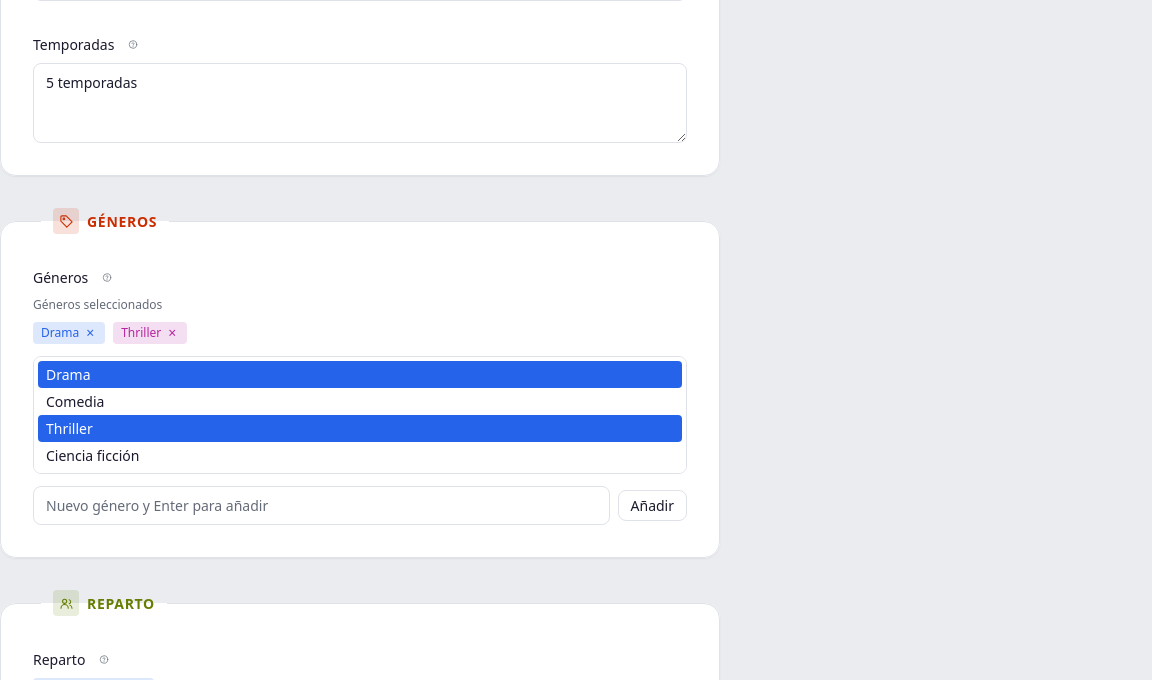
it: SeriesForm › permite a un admin eliminar un género del catálogo, actualizando dropdown y selección
(page scrolled)
Click the button named "quitar Drama": coordinates (90, 333) left=83, top=326, right=97, bottom=340
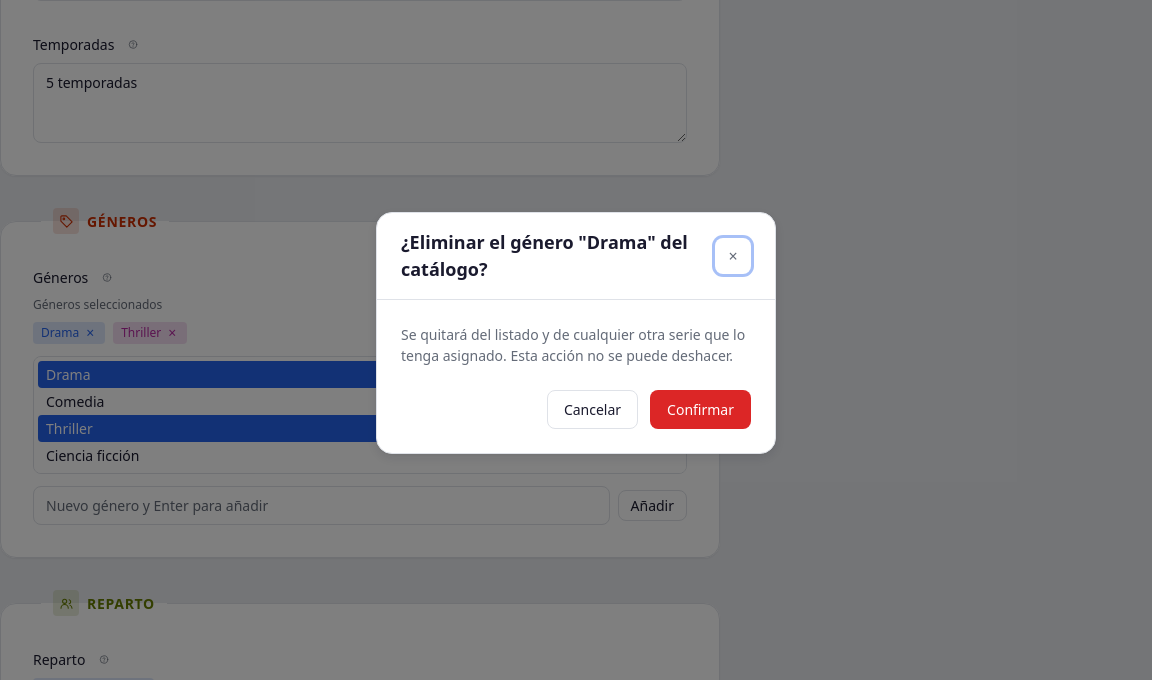
Result: the heading "¿Eliminar el género \"Drama\" del catálogo?" is shown at left=401, top=229, right=715, bottom=283
Click the button "Confirmar": coordinates (701, 410) left=650, top=390, right=751, bottom=429
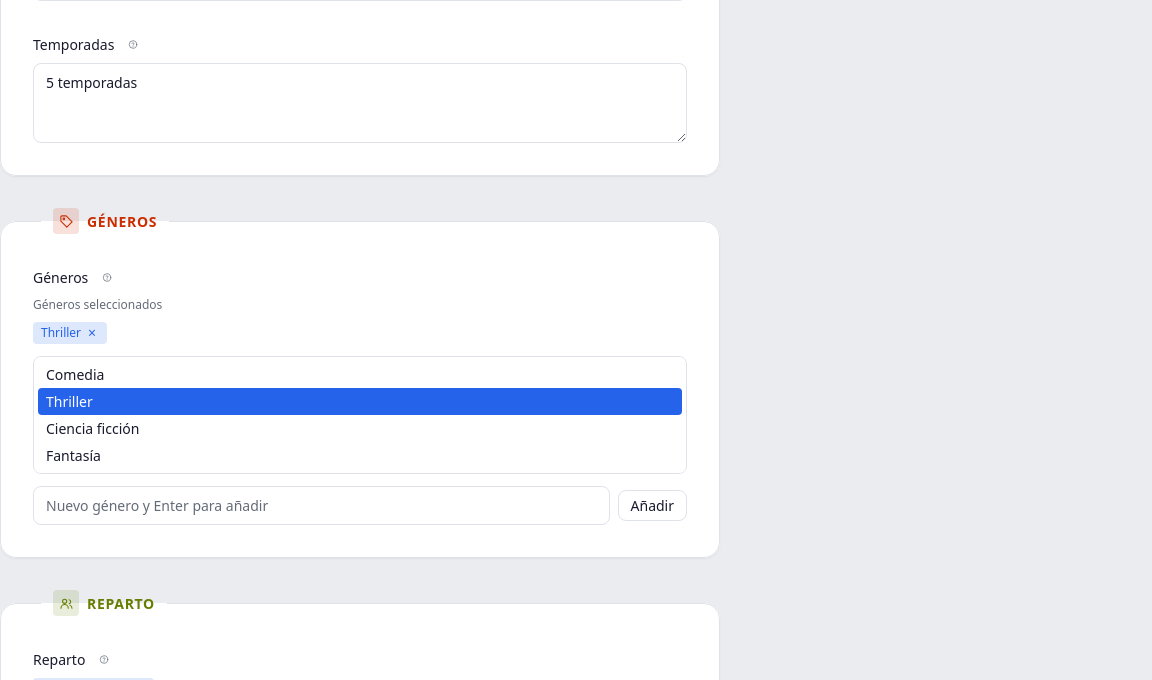
Result: the option "Drama" is gone
Result: the text "Drama" is gone
